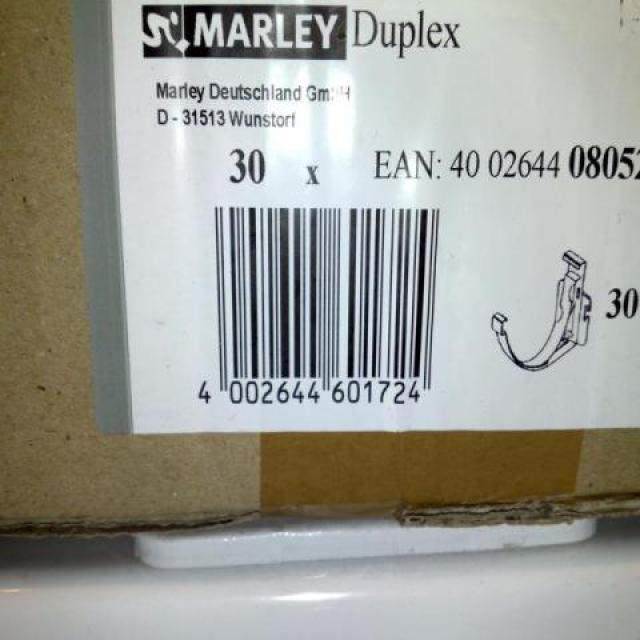Barcode: (176, 192, 475, 420)
